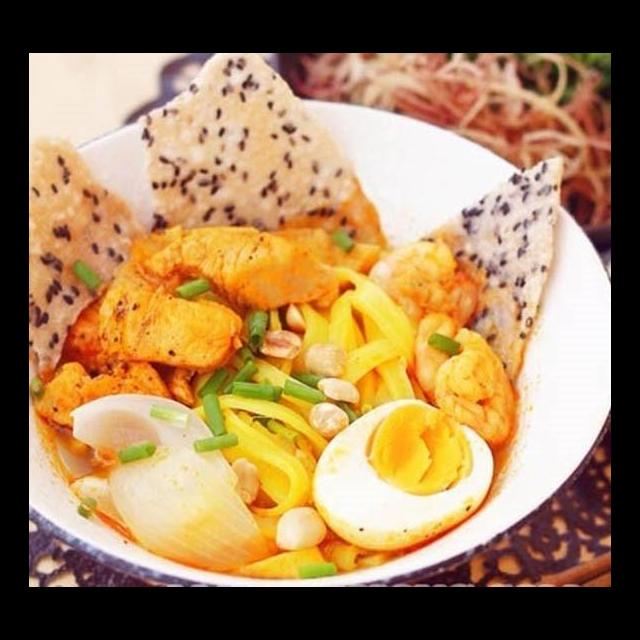banh da: (134, 54, 398, 250), (401, 151, 569, 391), (30, 126, 151, 384)
ca: (92, 220, 342, 378), (30, 352, 178, 438)
mi: (176, 343, 352, 526), (280, 264, 431, 420)
tom: (413, 312, 520, 447), (359, 238, 490, 342)
trung: (310, 395, 496, 554)
